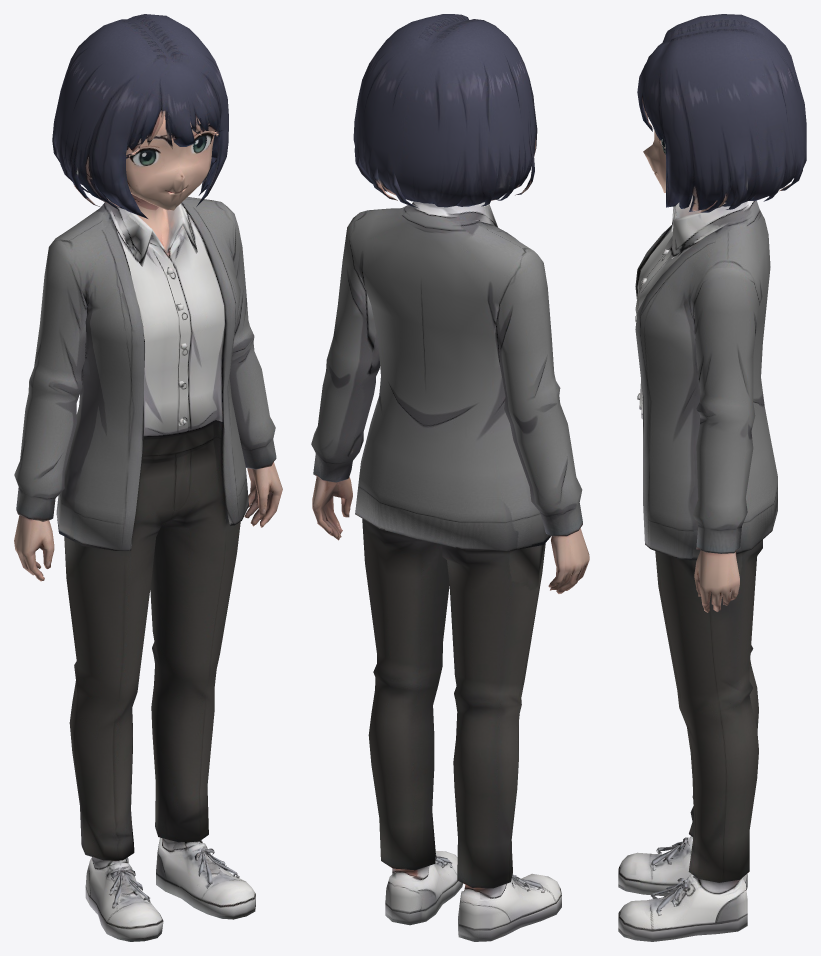
The model's file is friend_girl_cw.glb.
The picture shows the model from 3 angles, left to right: view 1: azimuth 30°, elevation 25°; view 2: azimuth 150°, elevation 25°; view 3: azimuth 270°, elevation 25°; orthographic projection. The views are drawn at different scales.
Visible parts, largest first — view 1: tripo_node_d477262d-8add-4c00-abf8-94885f47cbc3; view 2: tripo_node_d477262d-8add-4c00-abf8-94885f47cbc3; view 3: tripo_node_d477262d-8add-4c00-abf8-94885f47cbc3.
Boxes of the visible parts, box(x1,y1,x2,y2) form: tripo_node_d477262d-8add-4c00-abf8-94885f47cbc3: box(14, 14, 282, 941); tripo_node_d477262d-8add-4c00-abf8-94885f47cbc3: box(311, 14, 589, 941); tripo_node_d477262d-8add-4c00-abf8-94885f47cbc3: box(618, 14, 806, 941).
Size of the model in its own units: 0.3145 by 0.998 by 0.1934.
1 material, 1 textured.
